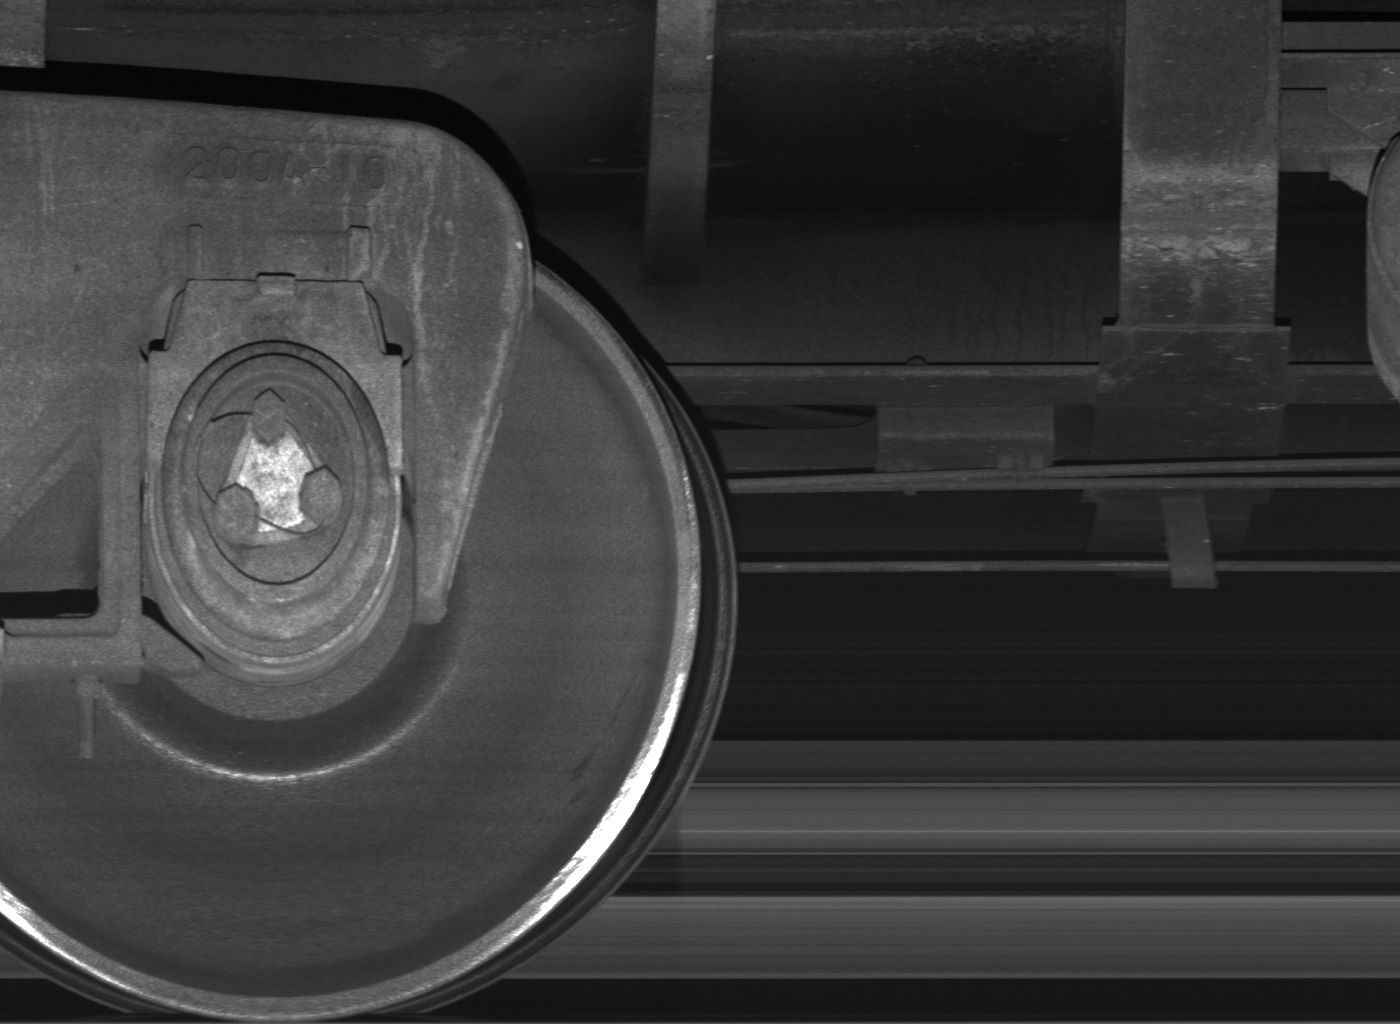normal: (1160, 498, 1216, 588)
